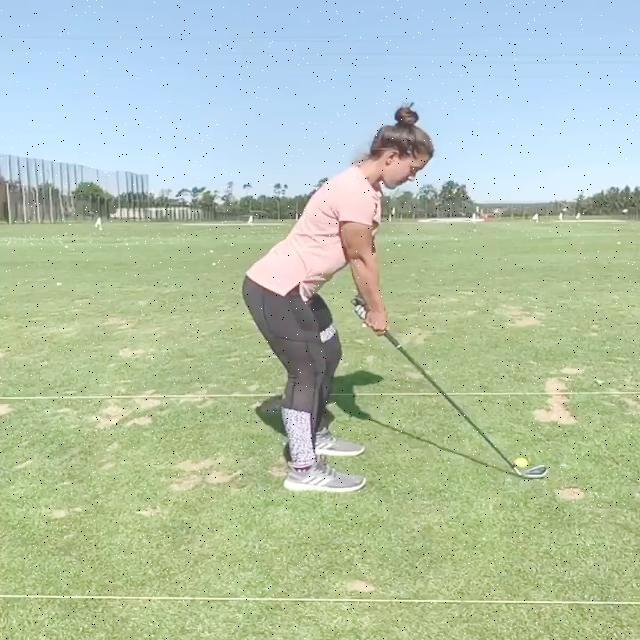ClubHandle: (349, 298, 548, 480)
ClubHead: (523, 465, 549, 480)
GolfBall: (515, 457, 528, 467)
